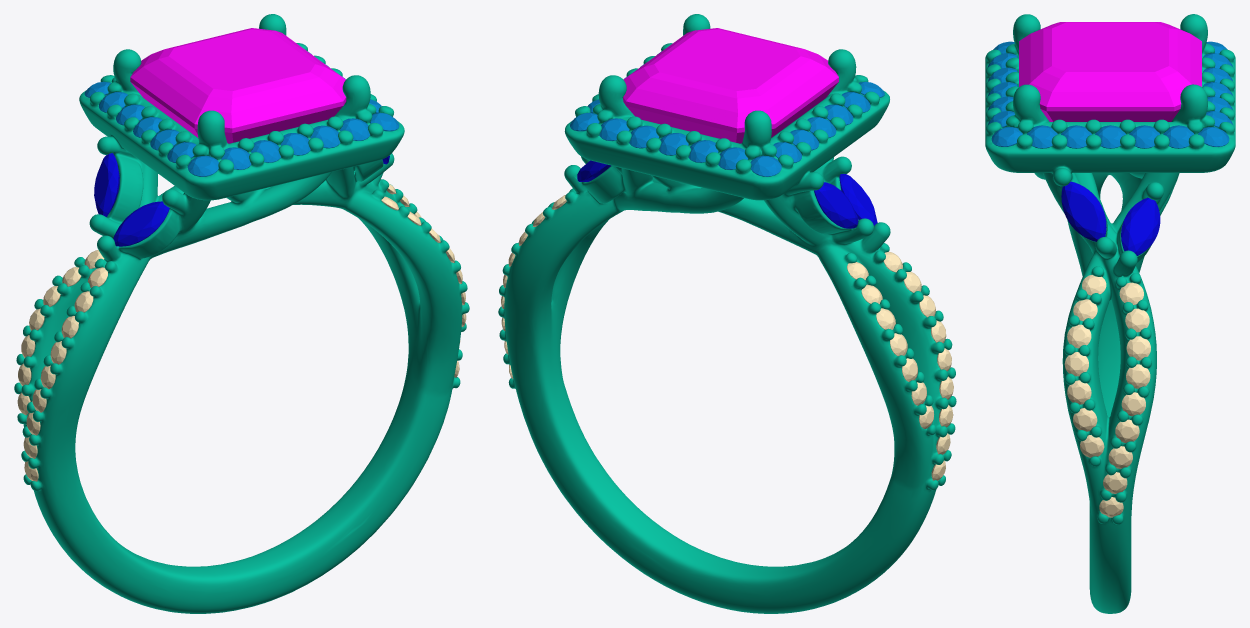
File: BE104H_AS_200ct_RENDER.glb
3 views of the same model, side by side, from view 1: azimuth 30°, elevation 25°; view 2: azimuth 150°, elevation 25°; view 3: azimuth 270°, elevation 25° (orthographic).
Parts seen in each view (by area): view 1: Metal 01, CS_Diamond_Asscher, Diamond_Marquise_side, Diamond_Marquise_side.001; view 2: Metal 01, CS_Diamond_Asscher, Diamond_Marquise_side.001, Diamond_Marquise_side; view 3: Metal 01, CS_Diamond_Asscher, Diamond_Marquise_side.003, Diamond_Marquise_side.002, Diamond_Round_Gem_HD.002, Diamond_Round_Gem_HD.006, Diamond_Round_Gem_HD.004, Diamond_Round_Gem_HD.003, Diamond_Round_Gem_HD.005, Diamond_Round_Gem_HD.023, Diamond_Round_Gem_HD.021, Diamond_Round_Gem_SH.026 (+15 smaller).
Boxes of the visible parts, x1,y1,x2,y2 form: Metal 01: (14, 14, 469, 613); CS_Diamond_Asscher: (130, 28, 346, 143); Diamond_Marquise_side: (113, 201, 169, 246); Diamond_Marquise_side.001: (94, 153, 119, 216); Metal 01: (498, 14, 956, 613); CS_Diamond_Asscher: (623, 28, 838, 143); Diamond_Marquise_side.001: (814, 182, 858, 228); Diamond_Marquise_side: (839, 174, 877, 225); Metal 01: (985, 14, 1235, 613); CS_Diamond_Asscher: (1019, 22, 1201, 121); Diamond_Marquise_side.003: (1061, 181, 1106, 241); Diamond_Marquise_side.002: (1121, 197, 1160, 255); Diamond_Round_Gem_HD.002: (1163, 125, 1193, 148); Diamond_Round_Gem_HD.006: (1027, 125, 1057, 148); Diamond_Round_Gem_HD.004: (1095, 125, 1125, 148); Diamond_Round_Gem_HD.003: (1129, 125, 1159, 148); Diamond_Round_Gem_HD.005: (1061, 125, 1091, 148); Diamond_Round_Gem_HD.023: (991, 127, 1022, 146); Diamond_Round_Gem_HD.021: (1198, 127, 1229, 146); Diamond_Round_Gem_SH.026: (1067, 380, 1091, 404).
Bounding box in the file's own units: 20.67 × 24.58 × 10.26.
